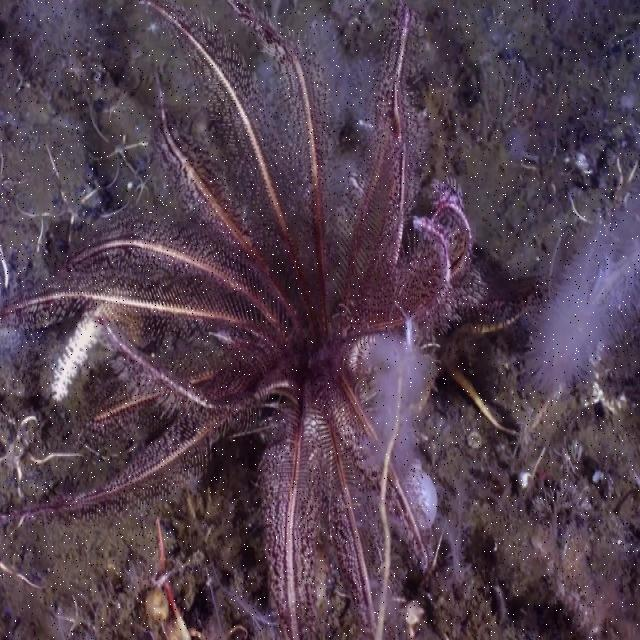aquatic plants: (0, 5, 471, 639)
